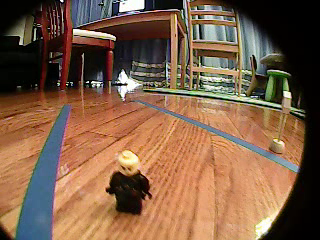Person: (103, 148, 154, 217)
